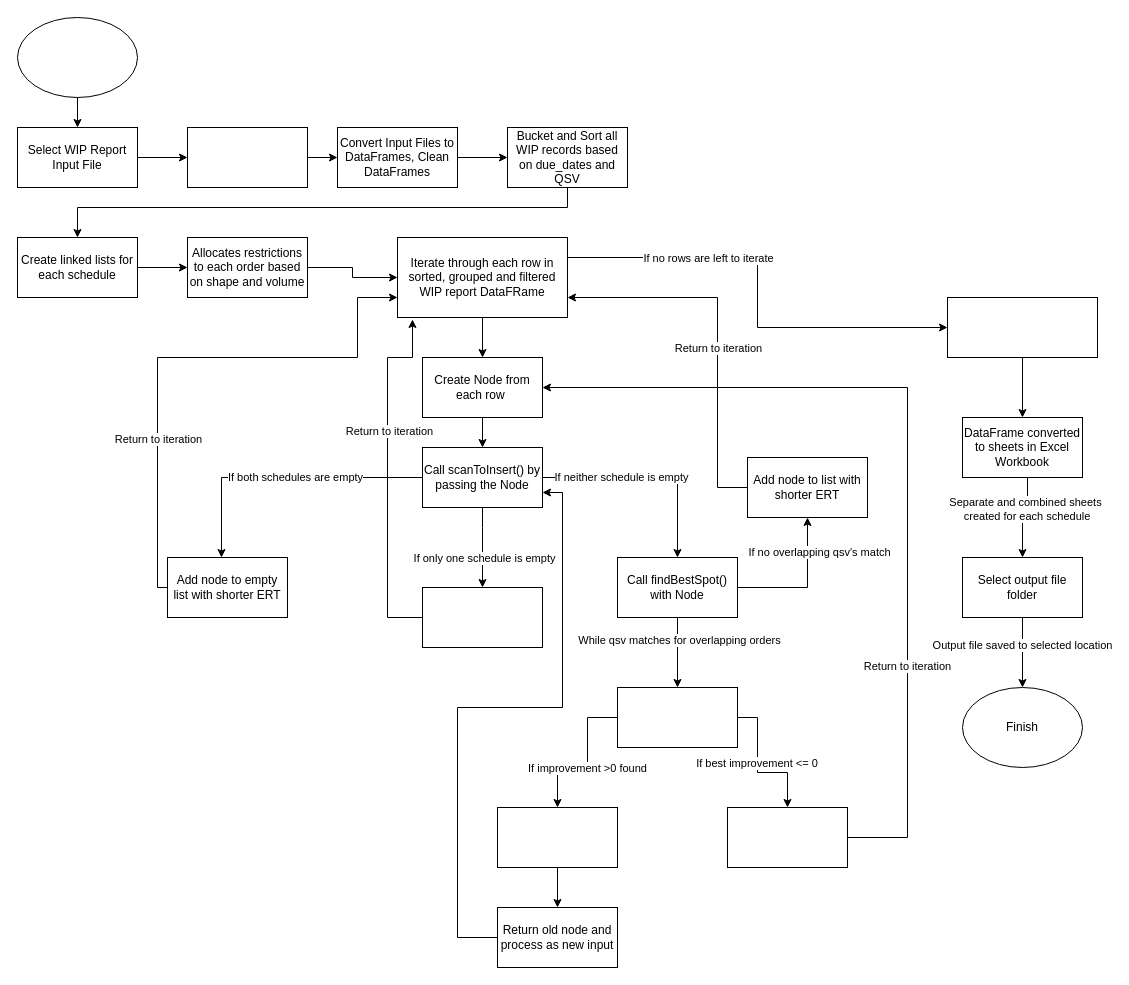
Image size: 1129x985. Some labels were removed from this diagram. The centre of each missing label's shape, as x and y in pixels:
"Add node to empty list" goes at point (482, 617).
"Add node to list with shorter ERT (for unrestricted orders)" goes at point (787, 837).
"call isCompatible()" goes at point (677, 717).
"Print schedule54 and schedule55 to stdout, convert to CSV and then to DataFrame" goes at point (1022, 327).
"Select Slit Plan Input File" goes at point (247, 157).
"Start" goes at point (77, 57).
"Swap Node in position of best improvement of schedule" goes at point (557, 837).
